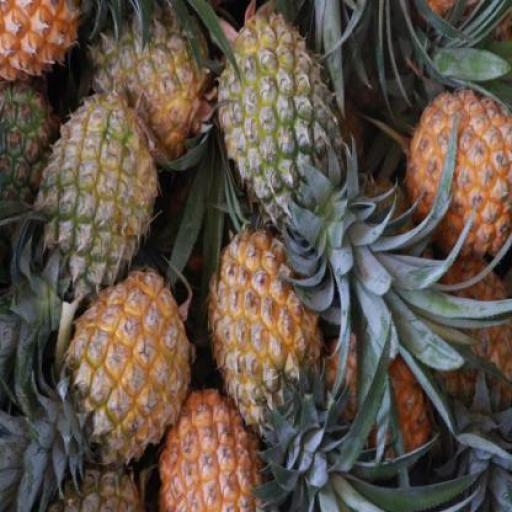------------------------------: (218, 6, 337, 220), (43, 97, 151, 291), (90, 1, 210, 158)
Pineapple - v8 v1: (77, 272, 201, 470), (208, 233, 318, 429), (407, 85, 511, 260), (155, 391, 266, 512)
